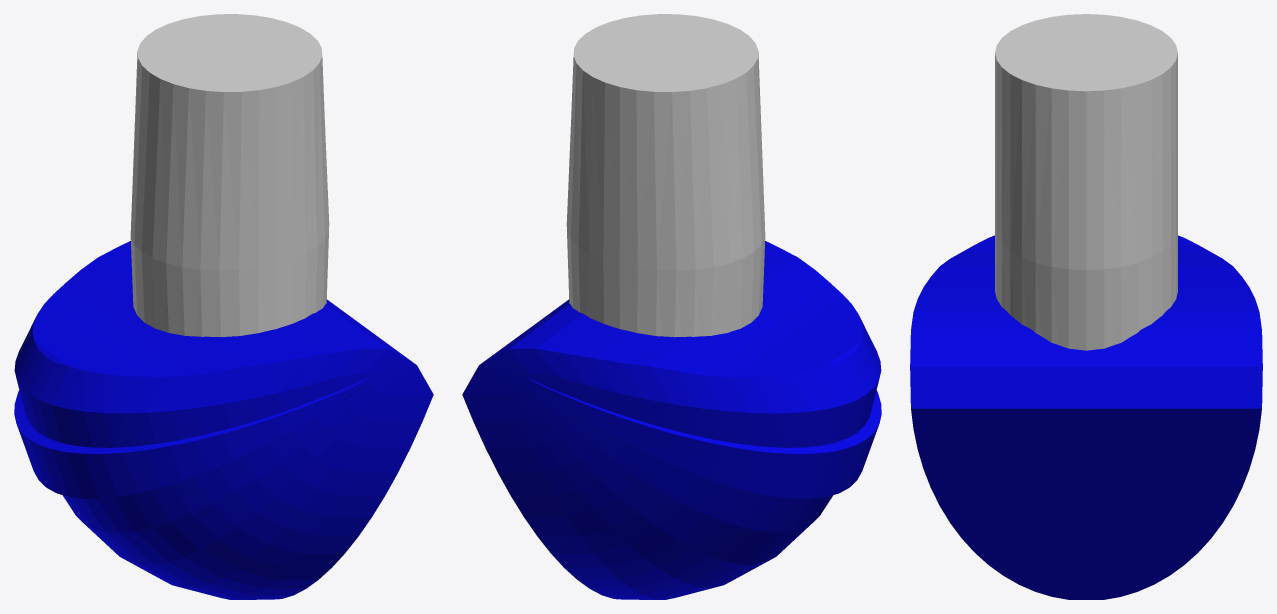
File: bicepsderecho.dae
3 renders of one model, left to right at view 1: azimuth 30°, elevation 25°; view 2: azimuth 150°, elevation 25°; view 3: azimuth 270°, elevation 25°, orthographic.
Parts seen in each view (by area): view 1: upperarm_000, upperarm_001, upperarm_002; view 2: upperarm_000, upperarm_001, upperarm_002; view 3: upperarm_000, upperarm_001.
Boxes of the visible parts, x1=… form: upperarm_000: x1=14, y1=241, x2=433, y2=599; upperarm_001: x1=130, y1=14, x2=329, y2=337; upperarm_002: x1=14, y1=378, x2=369, y2=498; upperarm_000: x1=462, y1=241, x2=881, y2=599; upperarm_001: x1=566, y1=14, x2=765, y2=337; upperarm_002: x1=526, y1=378, x2=881, y2=498; upperarm_000: x1=910, y1=235, x2=1262, y2=599; upperarm_001: x1=995, y1=14, x2=1177, y2=350.
Size of the model in its own units: 0.6646 by 0.6506 by 1.09.
